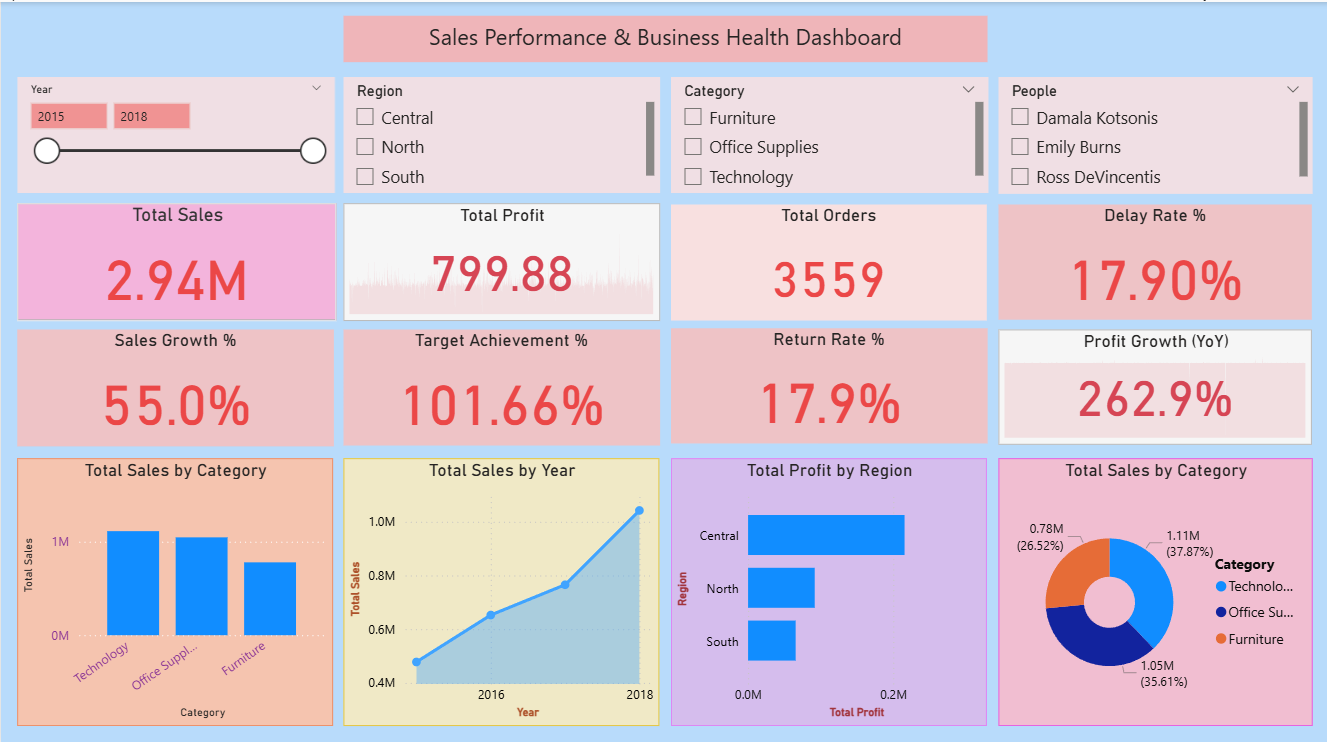

The page's visual inventory and layout, read from the dashboard file:
{"tool":"powerbi","page":{"name":"Executive Sales Dashboard","canvas":[1280,720],"ordinal":0},"visuals":[{"type":"card","title":"Total Sales","fields":{"Values":["Orders.Total Sales"]},"box":[15.5,194.5,308.2,112.7],"z":0},{"type":"kpi","title":"Total Profit","fields":{"TrendLine":["DateTable.Date"],"Goal":["DateTable.PY Sales"],"Indicator":["Orders.Total Profit"]},"box":[330,194.5,305.5,113.6],"z":1000},{"type":"kpi","title":"Profit Growth (YoY)","fields":{"TrendLine":["DateTable.Date"],"Goal":["DateTable.PY Sales"],"Indicator":["DateTable.Profit Growth %"]},"box":[963,315.7,302.6,110.9],"z":2000},{"type":"textbox","box":[330,13.3,621.7,45],"z":3000},{"type":"card","title":"Sales Growth %","fields":{"Values":["DateTable.Sales Growth %"]},"box":[15.7,315.7,305.7,112.6],"z":4000},{"type":"card","title":"Delay Rate %","fields":{"Values":["Orders.Delay Rate %"]},"box":[963,195.2,302.6,111.3],"z":5000},{"type":"card","title":"Return Rate %","fields":{"Values":["Returns.Return Rate %"]},"box":[646.7,315.2,305.2,111.4],"z":6000},{"type":"card","title":"Target Achievement %","fields":{"Values":["Target.Target Achievement %"]},"box":[330.5,315.7,305.2,111.9],"z":7000},{"type":"slicer","fields":{"Values":["DateTable.Year"]},"box":[15.7,72.4,306.4,112.2],"z":8000},{"type":"slicer","fields":{"Values":["People.People"]},"box":[962.2,72.2,303.5,112.6],"z":9000},{"type":"slicer","fields":{"Values":["Orders.Category"]},"box":[646.7,72.4,306.4,112.2],"z":10000},{"type":"slicer","fields":{"Values":["Orders.Region"]},"box":[330.6,72.4,305.2,112.2],"z":11000},{"type":"card","title":"Total Orders","fields":{"Values":["Orders.Total Orders"]},"box":[646.2,195.2,304.8,112.4],"z":12000},{"type":"clusteredColumnChart","fields":{"Category":["Orders.Category"],"Y":["Orders.Total Sales"]},"box":[16,440,304.7,258],"z":13000},{"type":"lineChart","fields":{"Category":["DateTable.Year"],"Y":["Orders.Total Sales"]},"box":[330,440,305,258],"z":14000},{"type":"clusteredBarChart","fields":{"Category":["Orders.Region"],"Y":["Orders.Total Profit"]},"box":[647,440,305,258],"z":15000},{"type":"donutChart","fields":{"Category":["Orders.Category"],"Y":["Orders.Total Sales"]},"box":[963,440,303,258],"z":16000}]}

Visuals, with their boxes in screenshot pixels (x1, y1, x2, y2), scaled from the page's 1280x720 canvas onto the 1327x742 screenshot:
"Total Sales" card: <region>16, 200, 336, 317</region>
"Total Profit" kpi: <region>342, 200, 659, 318</region>
"Profit Growth (YoY)" kpi: <region>998, 325, 1312, 440</region>
textbox: <region>342, 14, 987, 60</region>
"Sales Growth %" card: <region>16, 325, 333, 441</region>
"Delay Rate %" card: <region>998, 201, 1312, 316</region>
"Return Rate %" card: <region>670, 325, 987, 440</region>
"Target Achievement %" card: <region>343, 325, 659, 441</region>
slicer - DateTable.Year: <region>16, 75, 334, 190</region>
slicer - People.People: <region>998, 74, 1312, 190</region>
slicer - Orders.Category: <region>670, 75, 988, 190</region>
slicer - Orders.Region: <region>343, 75, 659, 190</region>
"Total Orders" card: <region>670, 201, 986, 317</region>
clusteredColumnChart - Orders.Category x Orders.Total Sales: <region>17, 453, 332, 719</region>
lineChart - DateTable.Year x Orders.Total Sales: <region>342, 453, 658, 719</region>
clusteredBarChart - Orders.Region x Orders.Total Profit: <region>671, 453, 987, 719</region>
donutChart - Orders.Category x Orders.Total Sales: <region>998, 453, 1312, 719</region>
